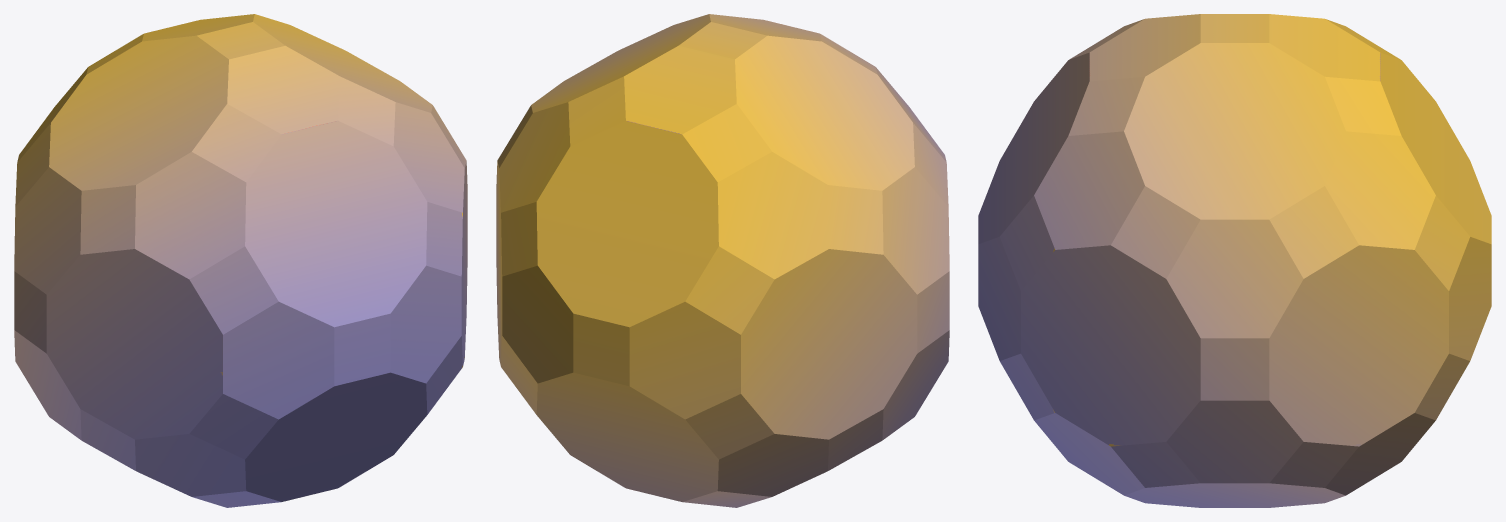
The model's file is Truncated Icosidodecahedron.glb.
3 views of the same model, side by side, from view 1: azimuth 30°, elevation 25°; view 2: azimuth 150°, elevation 25°; view 3: azimuth 270°, elevation 25° (orthographic). The views are drawn at different scales.
Visible parts, largest first — view 1: Truncated Icosidodecahedron; view 2: Truncated Icosidodecahedron; view 3: Truncated Icosidodecahedron.
Part boxes in pixels (box(x1,y1,x2,y2)): Truncated Icosidodecahedron: box(14, 14, 467, 507); Truncated Icosidodecahedron: box(496, 14, 949, 507); Truncated Icosidodecahedron: box(978, 14, 1491, 507).
Size of the model in its own units: 1.64 by 1.64 by 1.64.
1 material, 1 textured.
